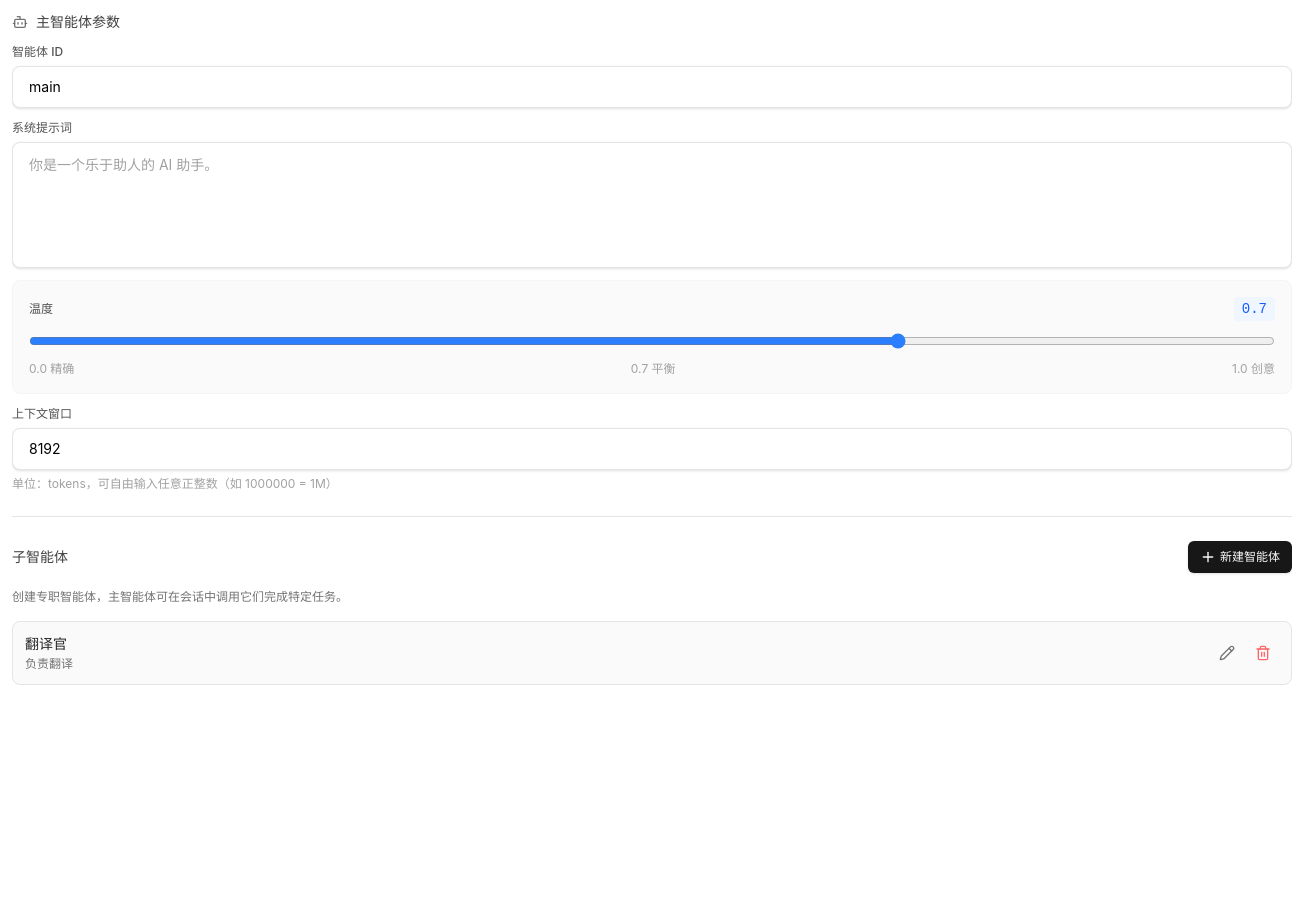
Test: AgentsManager › shows error when delete fails
Expected: the text "翻译官" is shown, [25,634,67,654]
Click the button named "删除 翻译官": (1263, 653) [1247,637,1279,669]
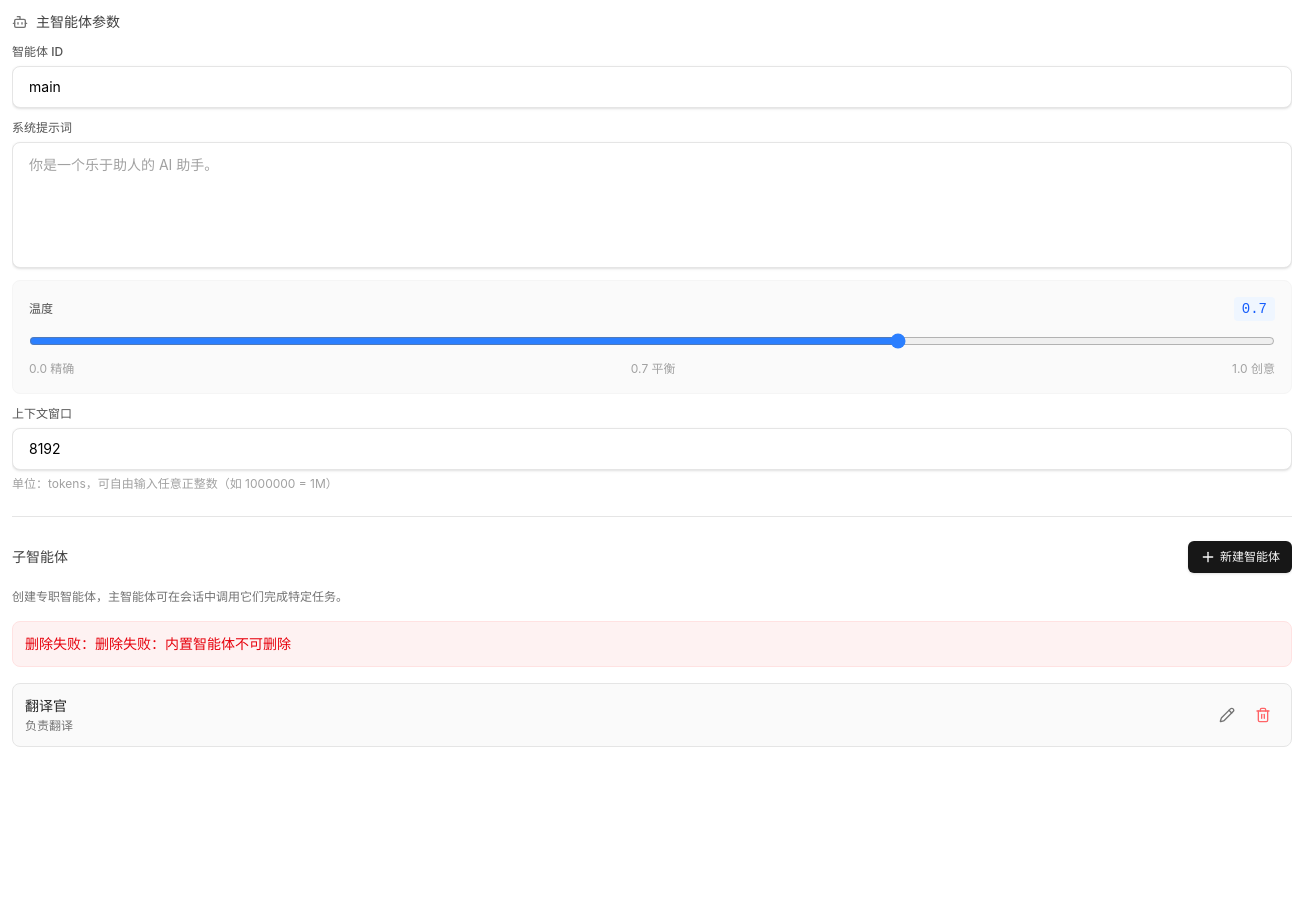
Now the text "删除失败：删除失败：内置智能体不可删除" is shown, box [12,621,1292,667]
